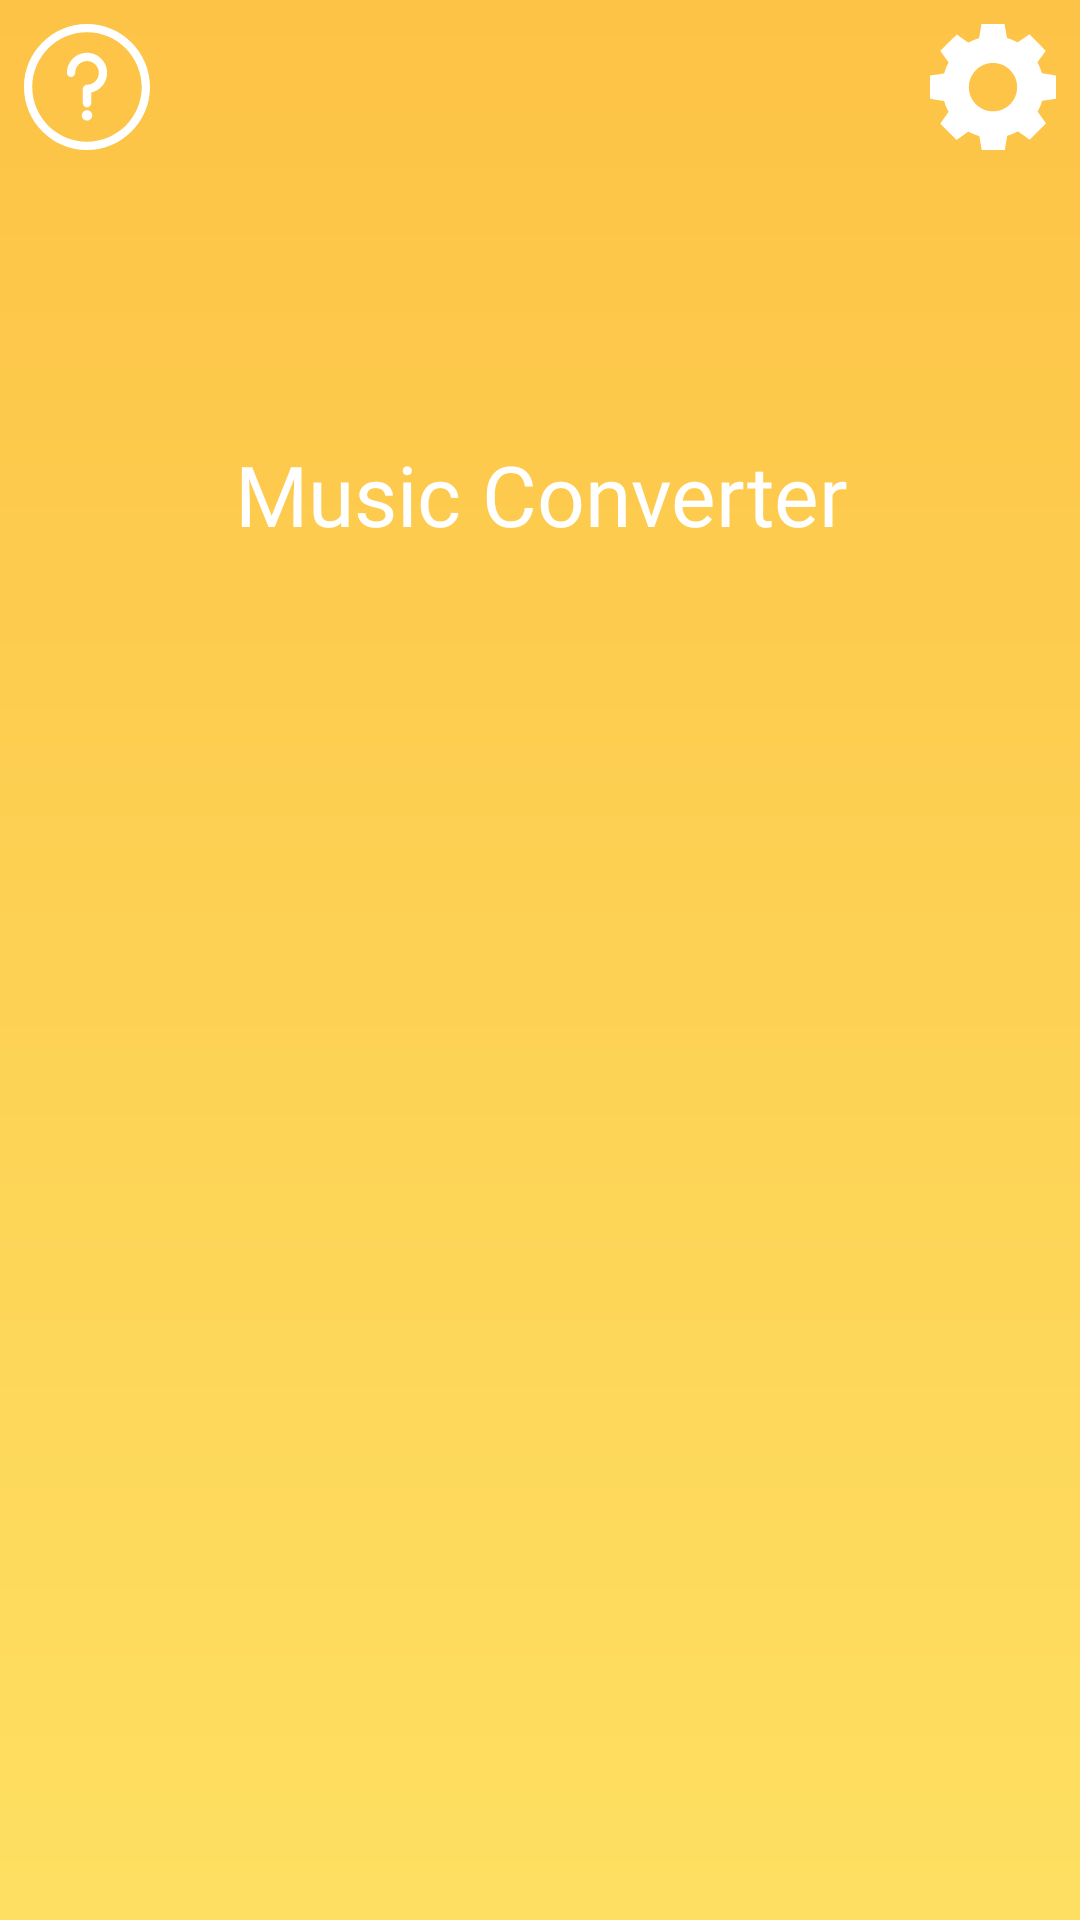

Point at icon controls on the screen. Image size 1080 x 1920, points as (x=x, y=y).
gear: (x=993, y=87)
help: (x=87, y=87)
